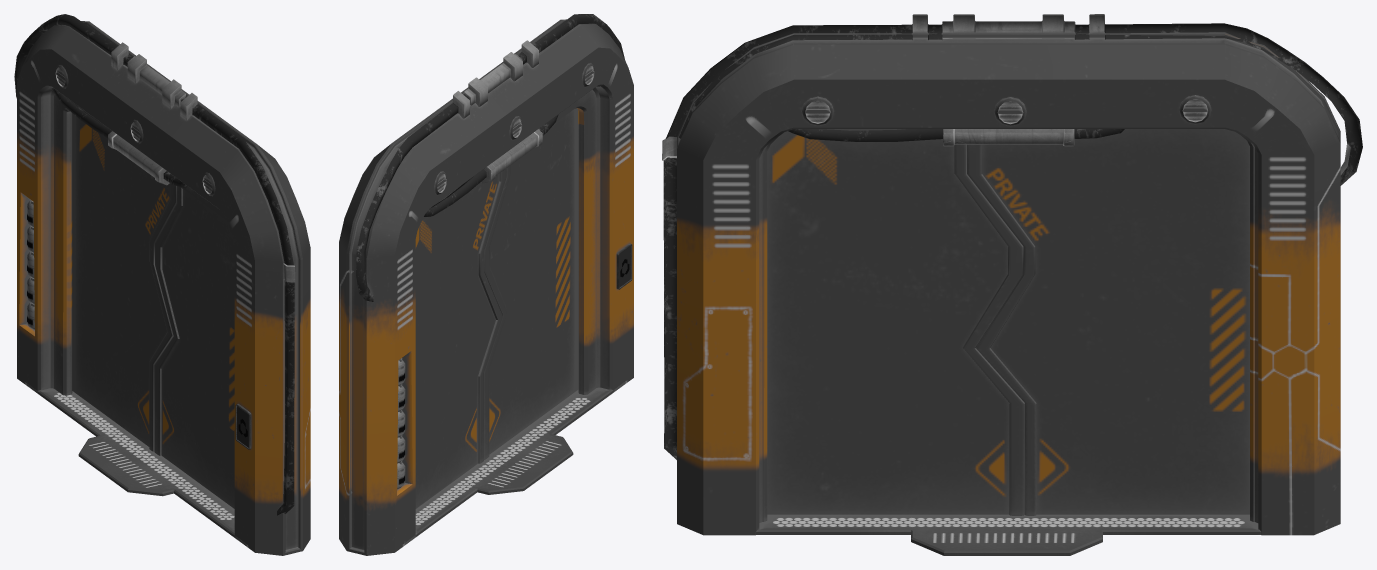
File: door.obj
The picture shows the model from 3 angles, left to right: view 1: azimuth 30°, elevation 25°; view 2: azimuth 150°, elevation 25°; view 3: azimuth 270°, elevation 25°; orthographic projection. The views are drawn at different scales.
Visible parts, largest first — view 1: porte_encadrement004; view 2: porte_encadrement004; view 3: porte_encadrement004.
Part boxes in pixels (left/top/right/bottom): porte_encadrement004: left=14, top=14, right=310, bottom=555; porte_encadrement004: left=339, top=14, right=633, bottom=555; porte_encadrement004: left=662, top=14, right=1362, bottom=555.
Bounding box in the file's own units: 1.1 × 3.36 × 4.26.
Materials: 1 (1 with a texture image).
